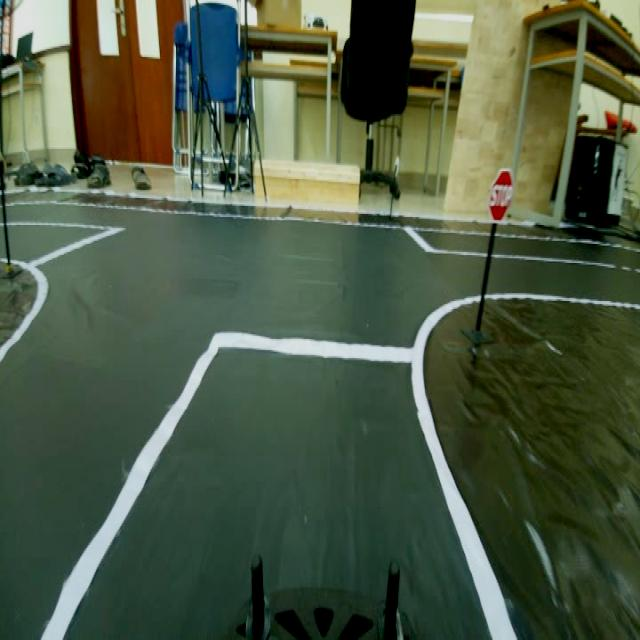stop: (484, 156, 516, 227)
